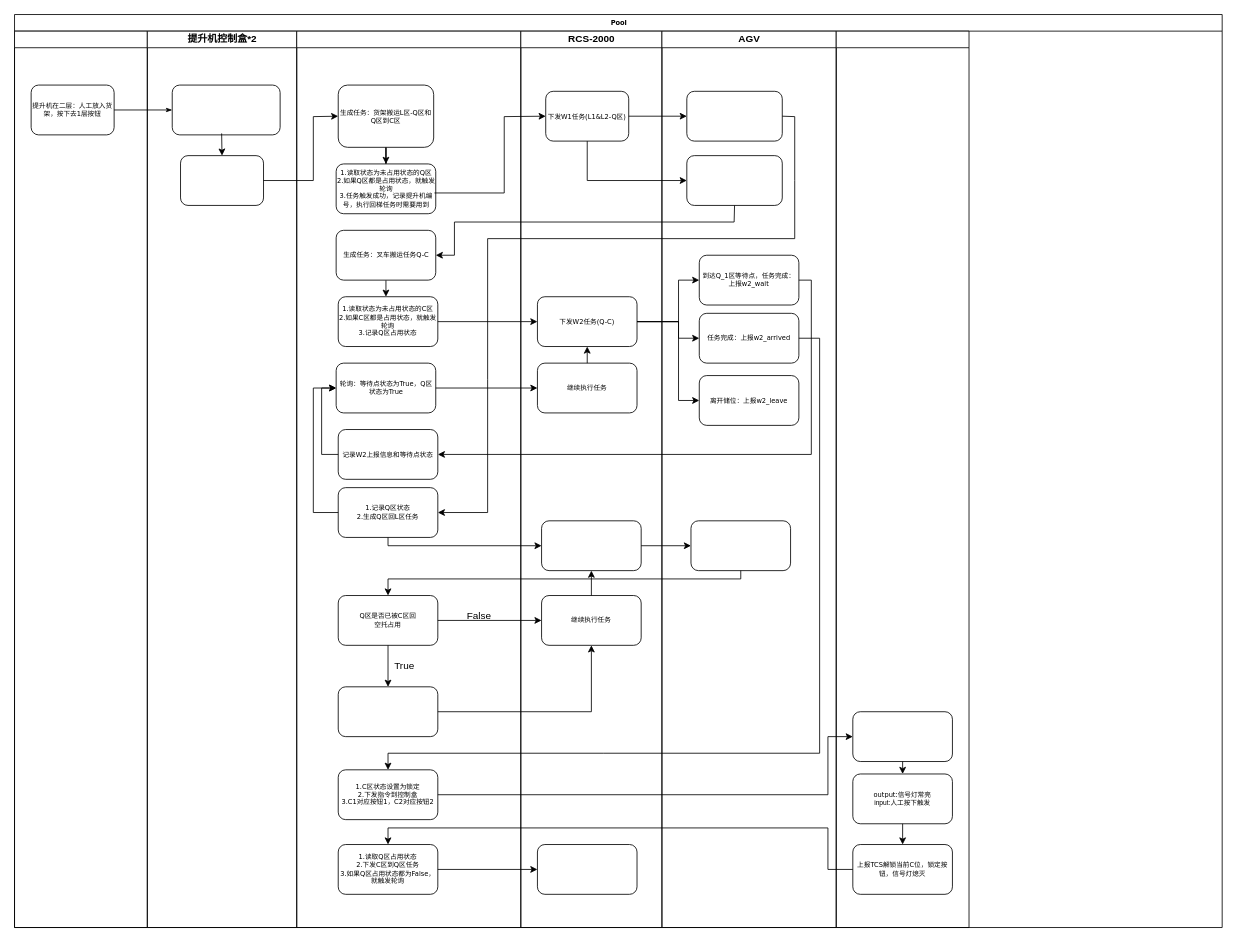
Image size: 1237x942. Some labels were removed from this diagram. The box of each missing label's shape, as (x1, y1, x2, y2) in pixels:
input:1层到位IO信号 output：锁梯IO信号: (171, 84, 280, 135)
TCS(任务控制系统): (296, 30, 521, 928)
上报TCS生成任务：当前提升机(L1&L2)-Q1: (180, 155, 264, 205)
下发W5任务(C-Q): (537, 844, 637, 894)
下发W6任务(Q1-C1): (541, 520, 641, 571)
任务完成：上报w1_arrived: (686, 90, 782, 141)
到达Q区，任务完成：上报w6_wait: (690, 520, 791, 571)
提升机*2: (14, 30, 147, 928)
月台控制盒: (835, 30, 969, 928)
解锁按钮: (852, 711, 952, 762)
走出提升机，走出储位：上报w1_leave: (686, 155, 782, 205)
轮询:等待W5任务上报完成: (337, 686, 438, 737)
